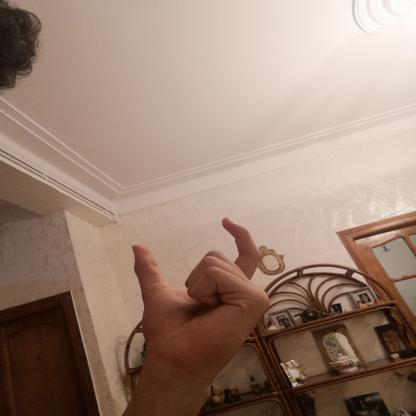NOON: (112, 207, 280, 388)
